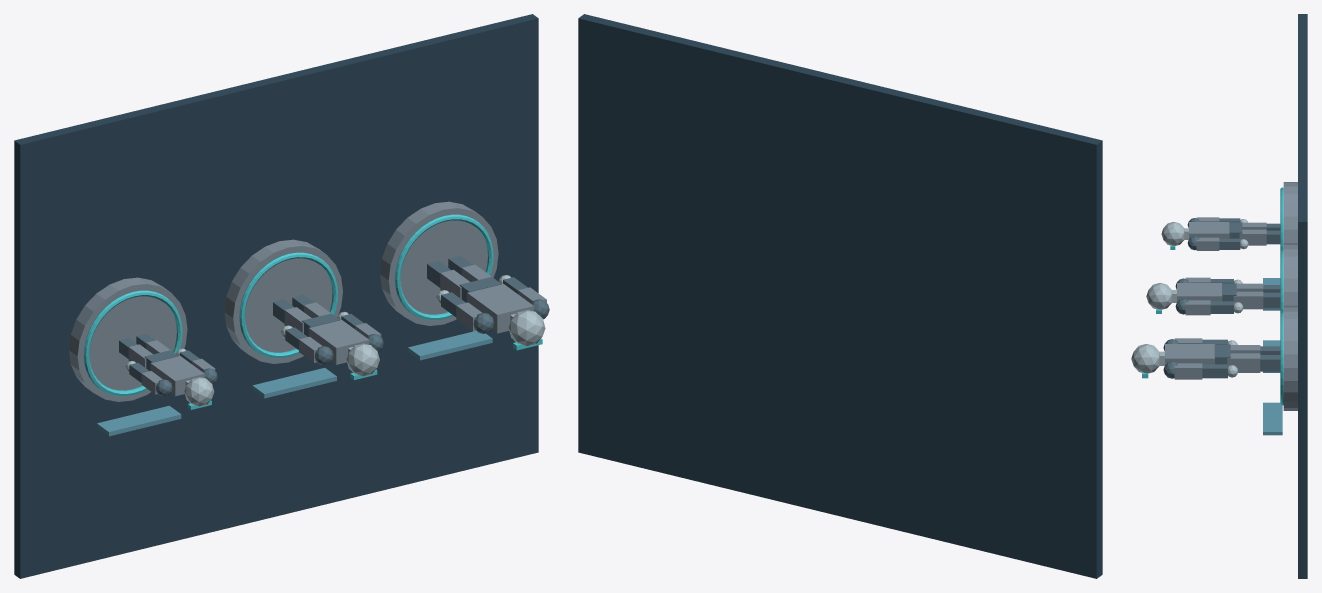
File: 03_JARVIS_Avatar_Workshop.glb
3 renders of one model, left to right at view 1: azimuth 30°, elevation 25°; view 2: azimuth 150°, elevation 25°; view 3: azimuth 270°, elevation 25°, orthographic. The views are drawn at different scales.
Visible parts, largest first — view 1: Workbench, Plinth_-3, Plinth_0, Plinth_3, Prototype_03_torso, PlinthRing_-3, PlinthRing_0, PlinthRing_3, Prototype_02_torso, LabelPanel_0, LabelPanel_1, LabelPanel_2 (+4 smaller); view 2: Workbench; view 3: Workbench, Plinth_3, Prototype_03_torso, Plinth_-3, Plinth_0, Prototype_02_torso, Prototype_03_head, LabelPanel_2, Prototype_01_torso, Prototype_03_thigh_R, Prototype_02_head, Prototype_02_thigh_R (+17 smaller).
Part boxes in pixels (<box>): Workbench: <box>14,14,538,578</box>; Plinth_-3: <box>69,277,187,401</box>; Plinth_0: <box>224,239,342,363</box>; Plinth_3: <box>380,201,498,325</box>; Prototype_03_torso: <box>467,284,533,333</box>; PlinthRing_-3: <box>84,290,182,396</box>; PlinthRing_0: <box>239,252,338,358</box>; PlinthRing_3: <box>395,214,493,320</box>; Prototype_02_torso: <box>308,320,369,364</box>; LabelPanel_0: <box>97,405,181,436</box>; LabelPanel_1: <box>252,368,336,398</box>; LabelPanel_2: <box>408,331,492,360</box>; Workbench: <box>578,14,1102,578</box>; Workbench: <box>1298,14,1307,578</box>; Plinth_3: <box>1283,307,1297,410</box>; Prototype_03_torso: <box>1165,344,1214,364</box>; Plinth_-3: <box>1283,182,1297,244</box>; Plinth_0: <box>1283,244,1297,306</box>; Prototype_02_torso: <box>1177,283,1222,301</box>; Prototype_03_head: <box>1131,344,1159,373</box>; LabelPanel_2: <box>1263,402,1282,435</box>; Prototype_01_torso: <box>1189,222,1229,238</box>; Prototype_03_thigh_R: <box>1227,353,1260,372</box>; Prototype_02_head: <box>1146,283,1172,309</box>; Prototype_02_thigh_R: <box>1233,291,1263,309</box>.
Bounding box in the file's own units: 10 × 8 × 3.58.
